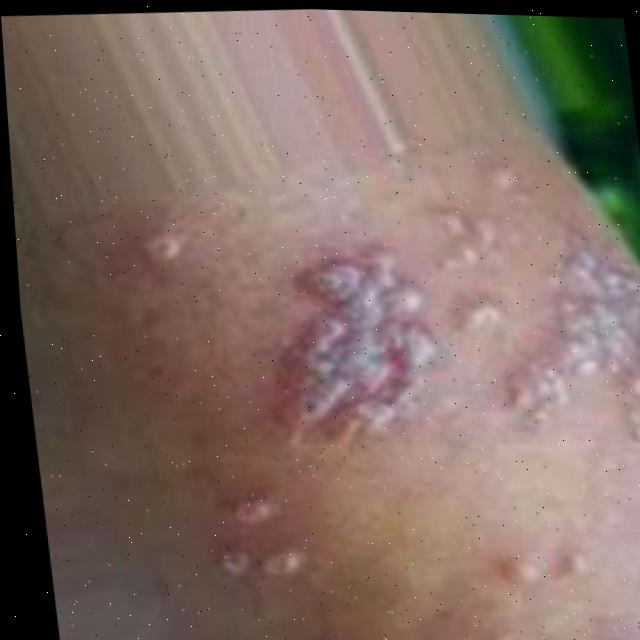Shingles: (240, 158, 640, 471), (214, 499, 298, 586)
